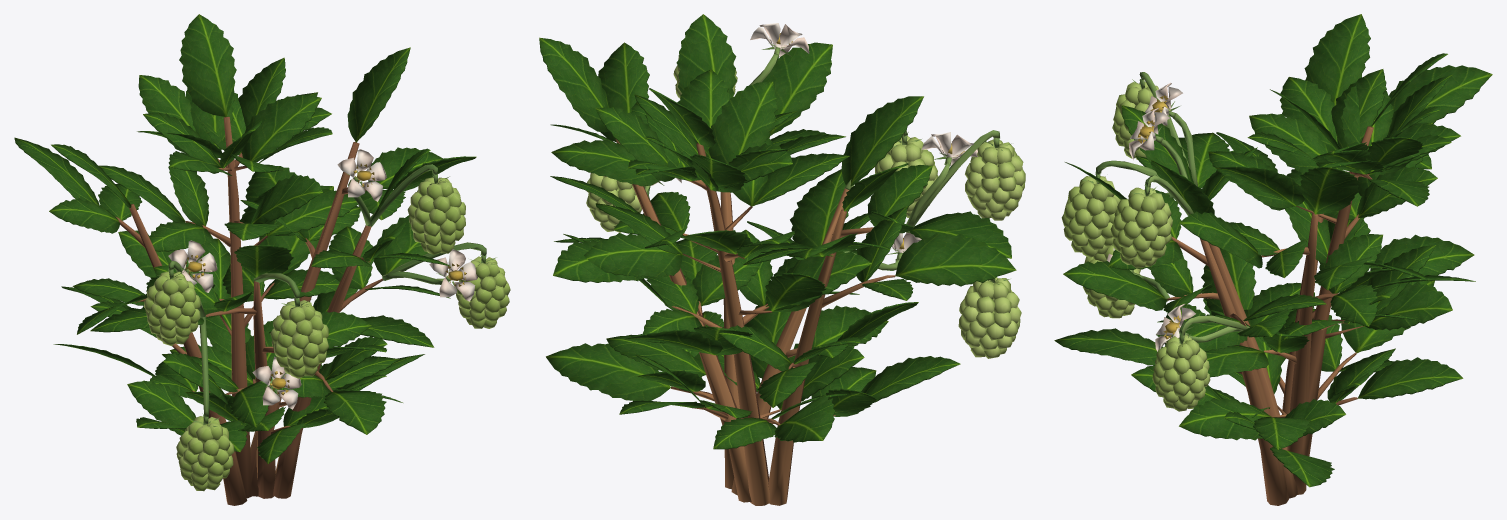
Rendered from NP_Blackberry_Flowering.fbx.
The picture shows the model from 3 angles, left to right: view 1: azimuth 30°, elevation 25°; view 2: azimuth 150°, elevation 25°; view 3: azimuth 270°, elevation 25°; orthographic projection. The views are drawn at different scales.
Visible parts, largest first — view 1: NP_Blackberry_Flowering; view 2: NP_Blackberry_Flowering; view 3: NP_Blackberry_Flowering.
Part boxes in pixels (x1=…): NP_Blackberry_Flowering: x1=14, y1=14, x2=510, y2=505; NP_Blackberry_Flowering: x1=539, y1=14, x2=1025, y2=505; NP_Blackberry_Flowering: x1=1054, y1=14, x2=1492, y2=505.
Bounding box in the file's own units: 76.71 × 75.6 × 67.2.
